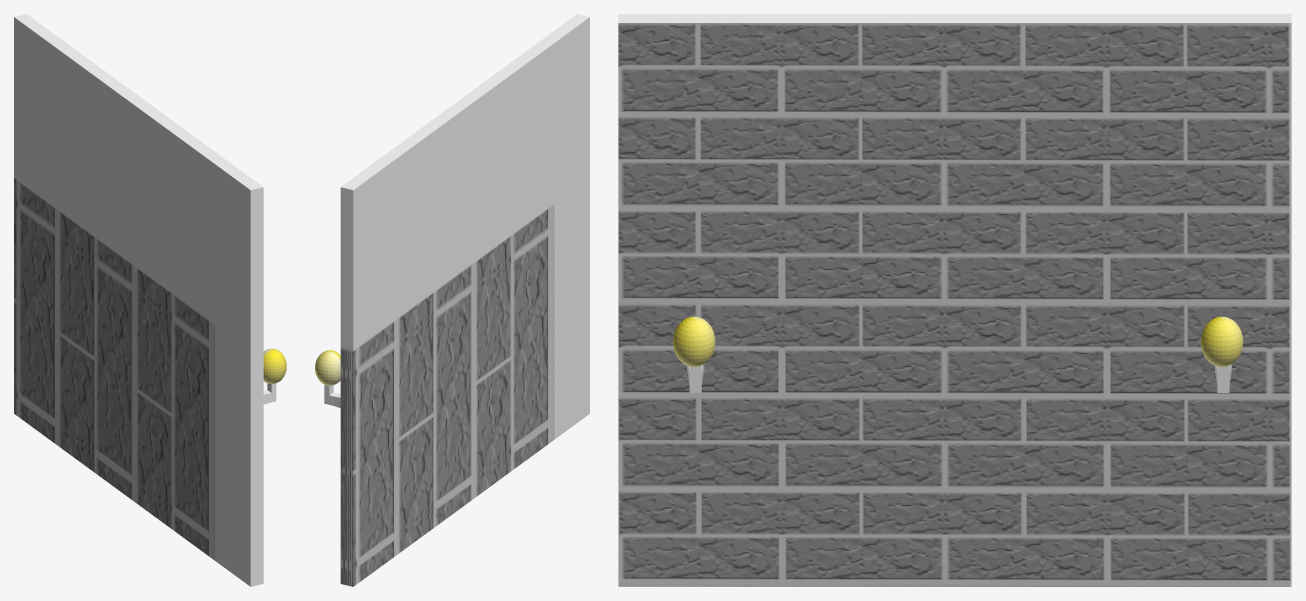
File: inside.obj
3 views of the same model, side by side, from view 1: azimuth 30°, elevation 25°; view 2: azimuth 150°, elevation 25°; view 3: azimuth 270°, elevation 25° (orthographic). The views are drawn at different scales.
Parts seen in each view (by area): view 1: Cube.002_Cube.006; view 2: Cube.002_Cube.006; view 3: Cube.002_Cube.006.
Boxes of the visible parts, x1,y1,x2,y2 form: Cube.002_Cube.006: (14, 14, 286, 586); Cube.002_Cube.006: (315, 14, 589, 586); Cube.002_Cube.006: (618, 14, 1291, 586).
Bounding box in the file's own units: 2.33 × 14.56 × 15.75.
